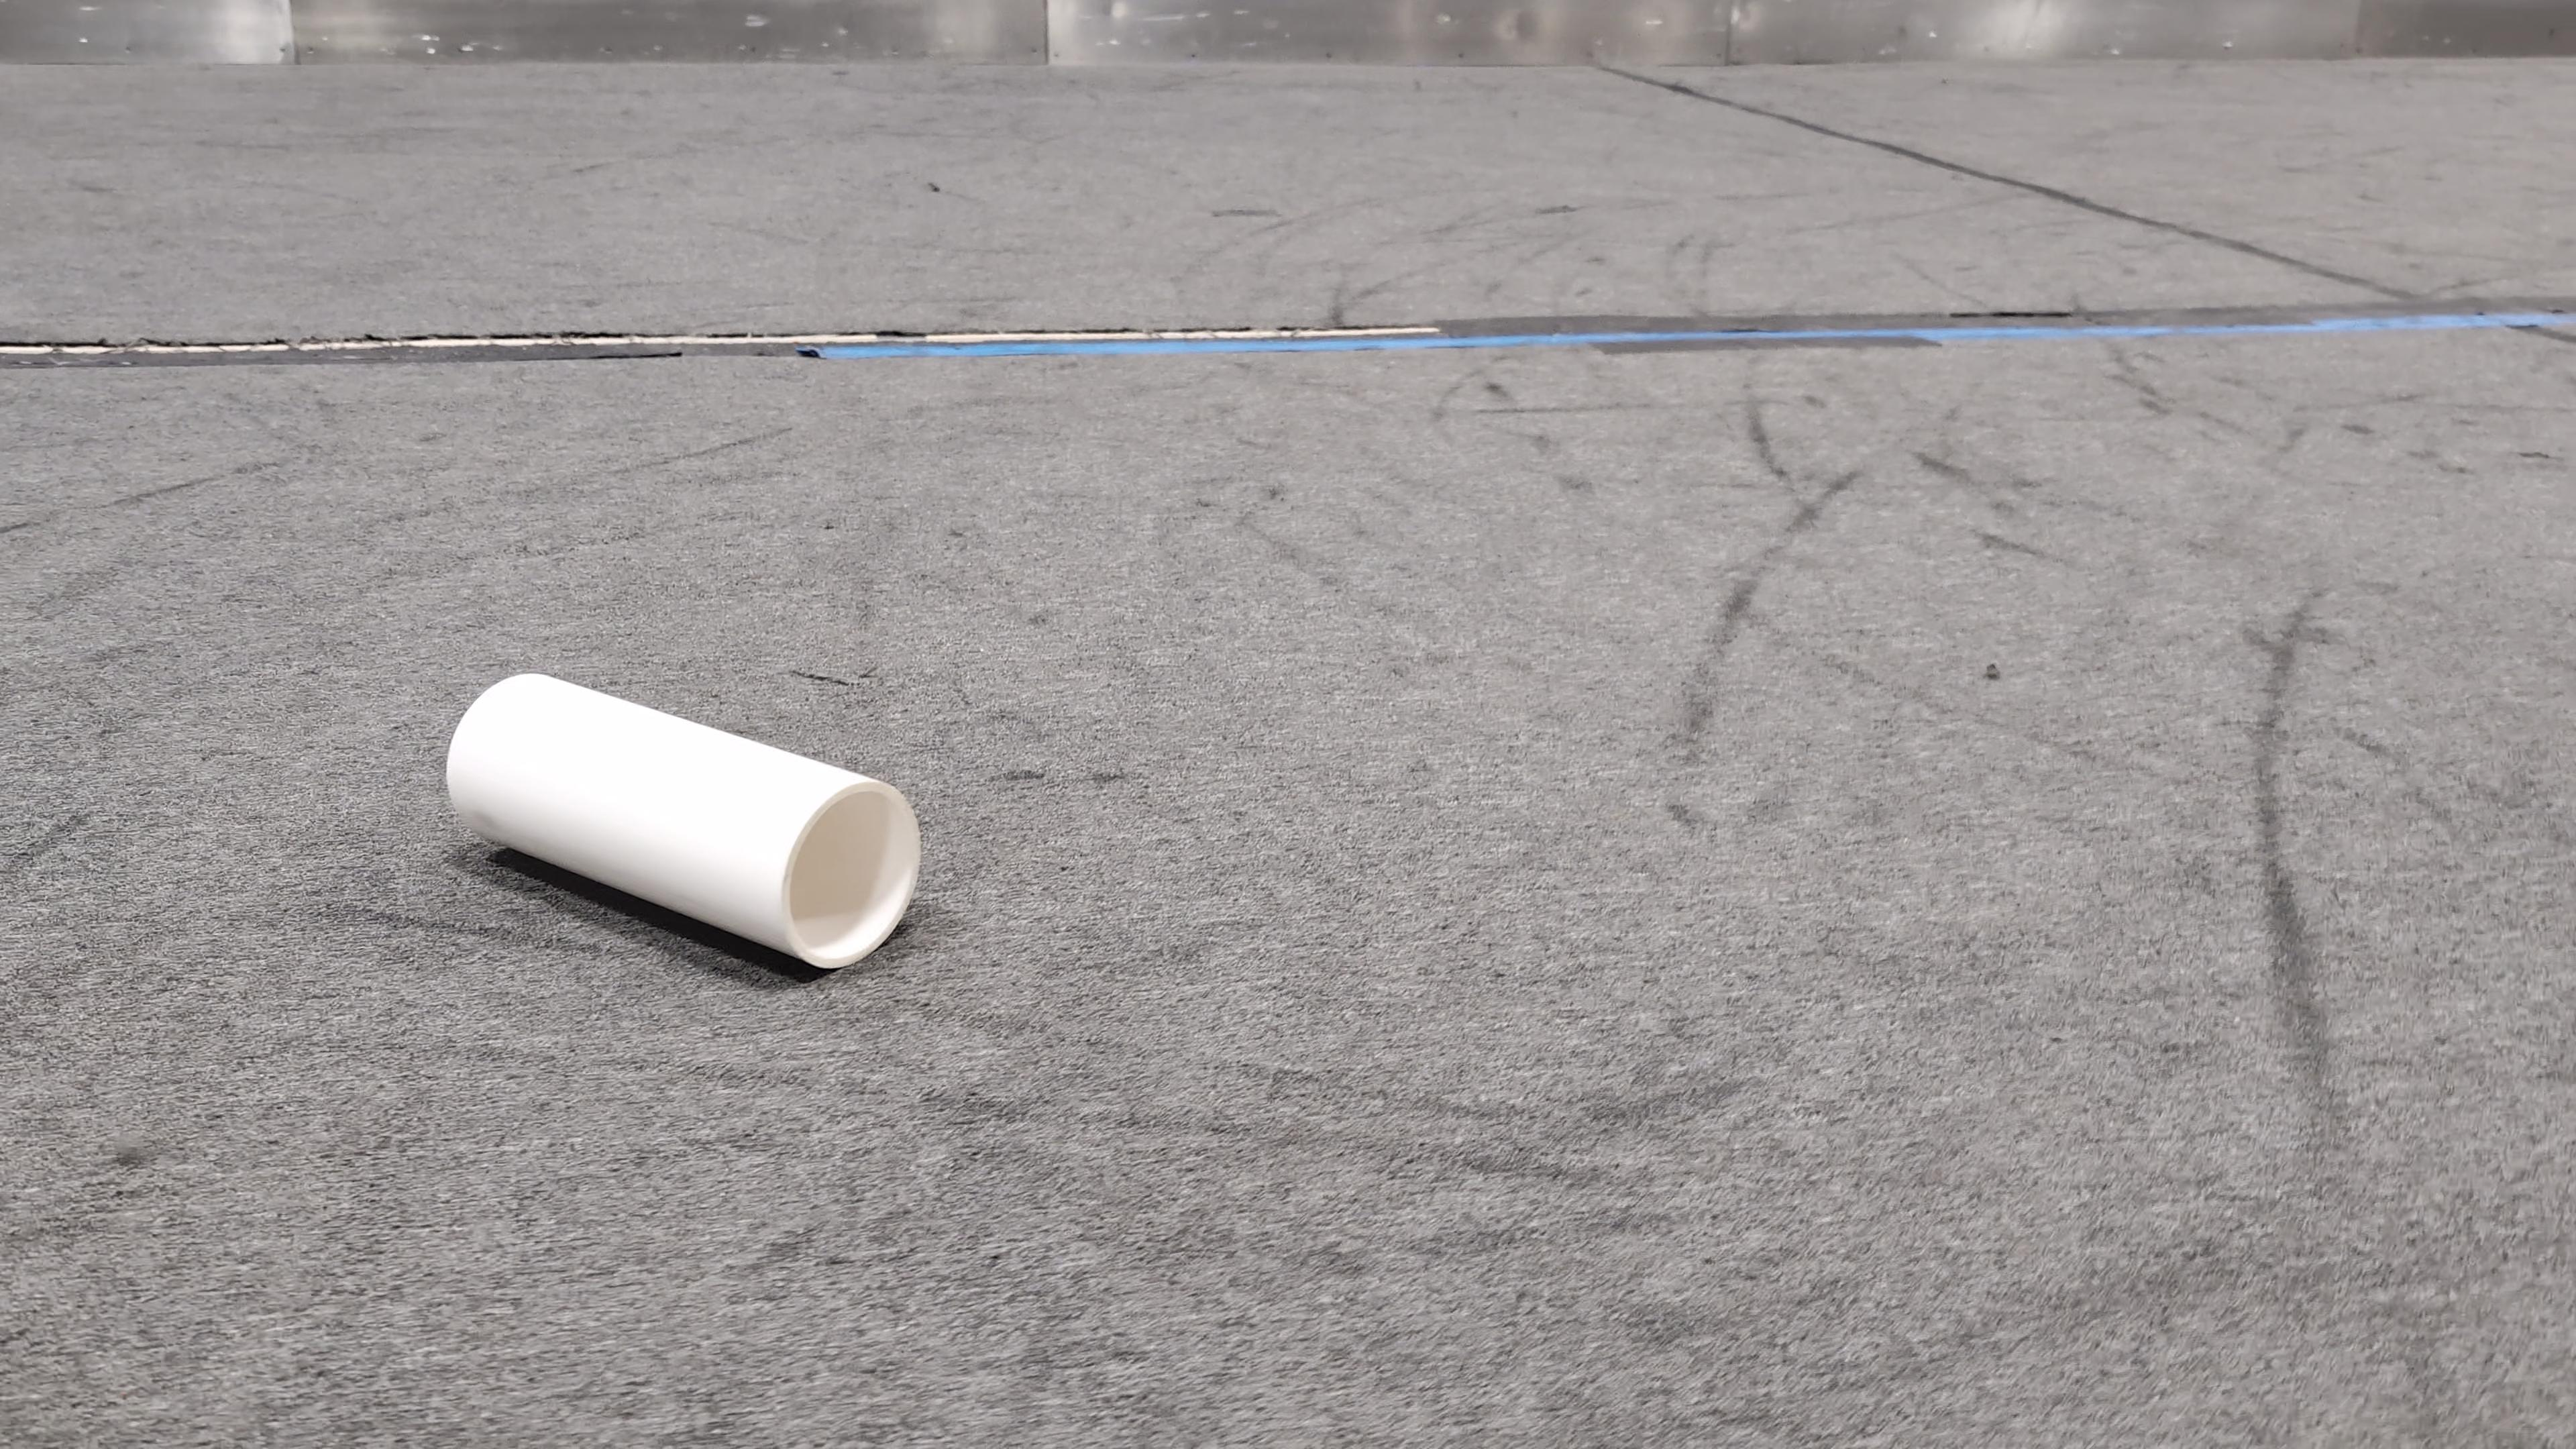coral: (442, 667, 924, 968)
